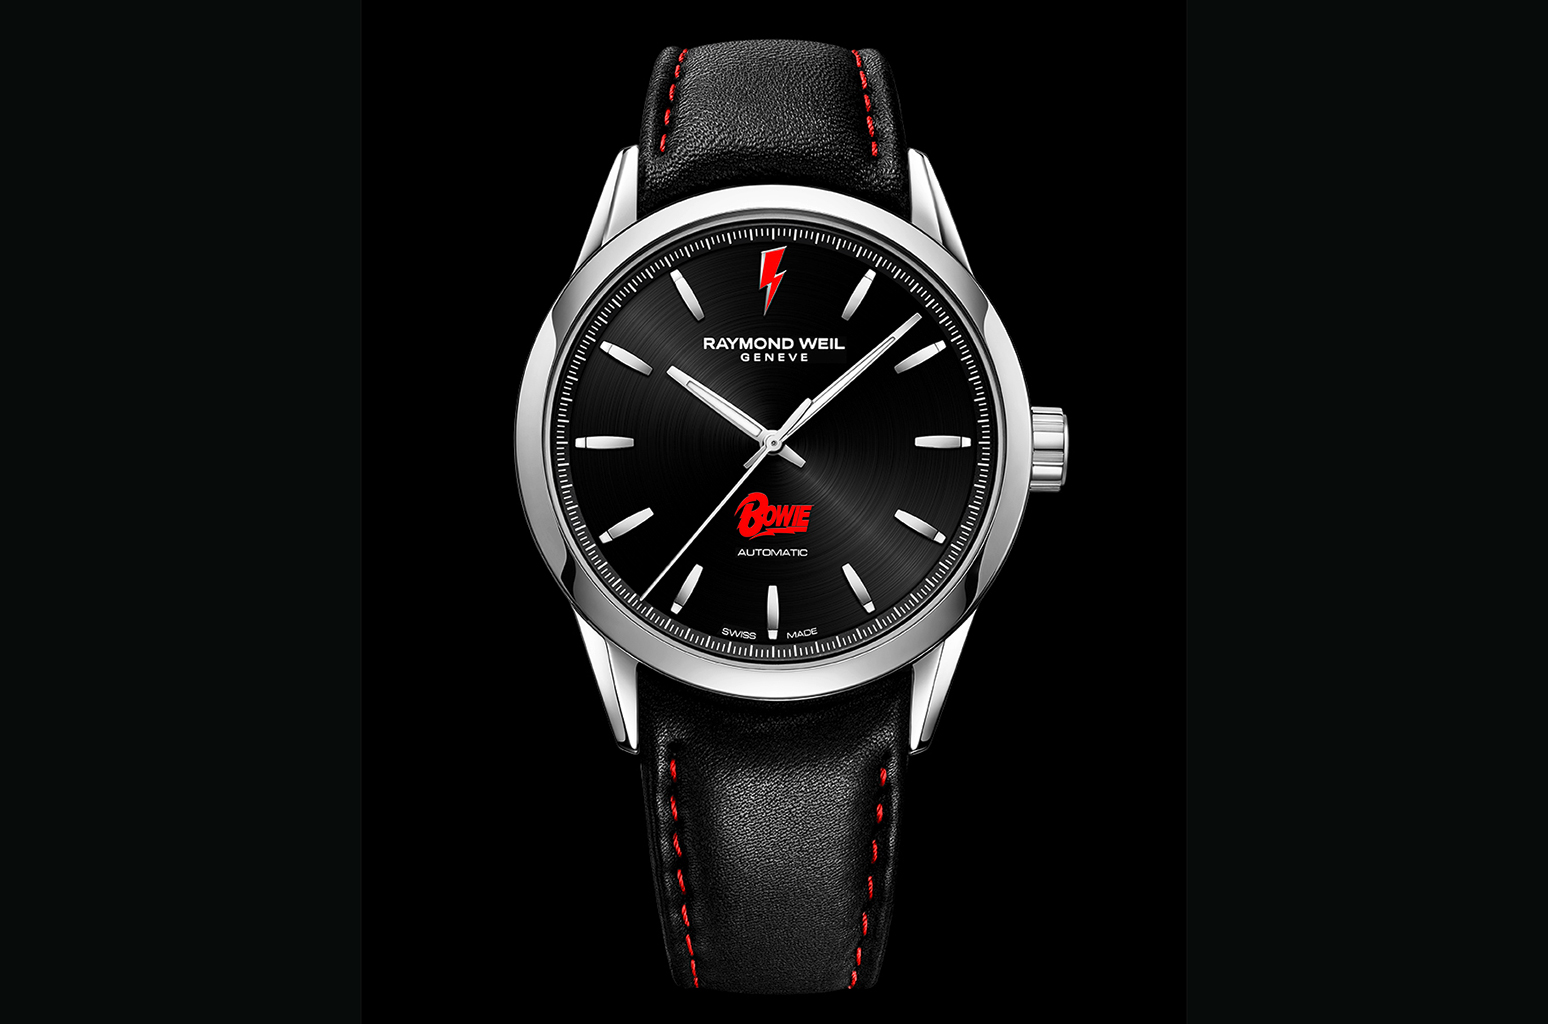clock: (553, 214, 1006, 665)
